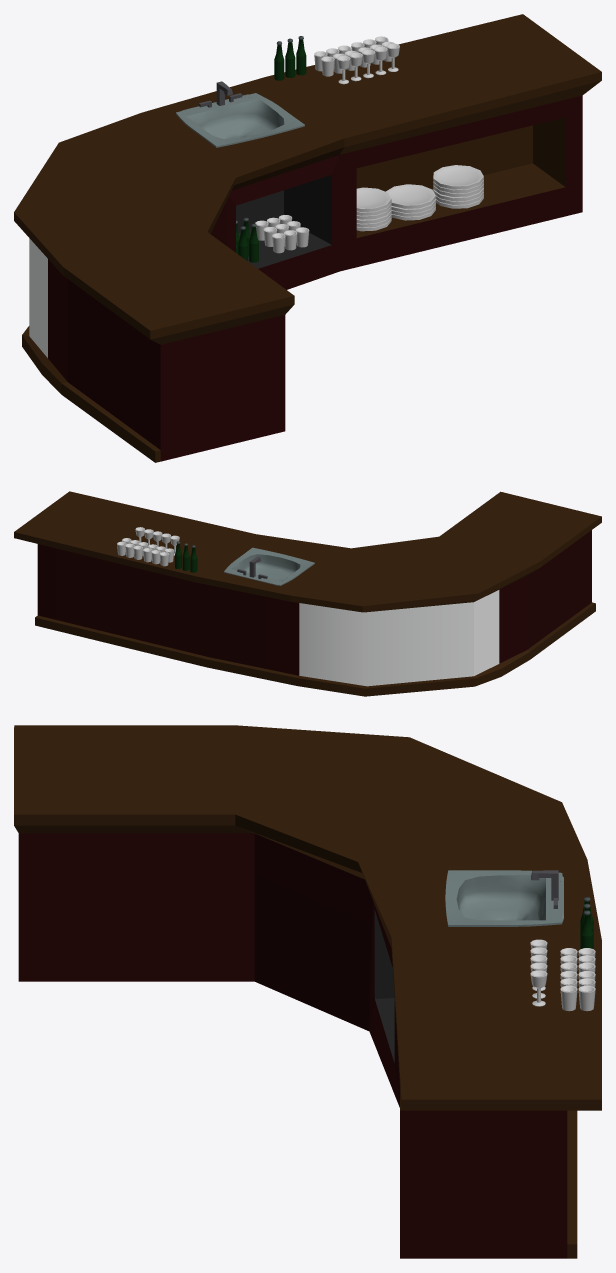
File: Bar.fbx
The picture shows the model from 3 angles, top to bottom: view 1: azimuth 30°, elevation 25°; view 2: azimuth 150°, elevation 25°; view 3: azimuth 270°, elevation 25°; orthographic projection. The views are drawn at different scales.
Visible parts, largest first — view 1: Bar, Lavamanos, Plato023, Plato017, Plato013; view 2: Bar, Lavamanos; view 3: Bar, Lavamanos.
Part boxes in pixels (x1,y1,x2,y2): Bar: (14, 14, 601, 462); Lavamanos: (176, 93, 304, 147); Plato023: (433, 165, 483, 189); Plato017: (385, 184, 435, 208); Plato013: (356, 187, 391, 211); Bar: (14, 491, 601, 696); Lavamanos: (224, 547, 314, 585); Bar: (14, 725, 601, 1258); Lavamanos: (445, 870, 563, 926).
Bounding box in the file's own units: 53.33 × 14.92 × 35.41.
